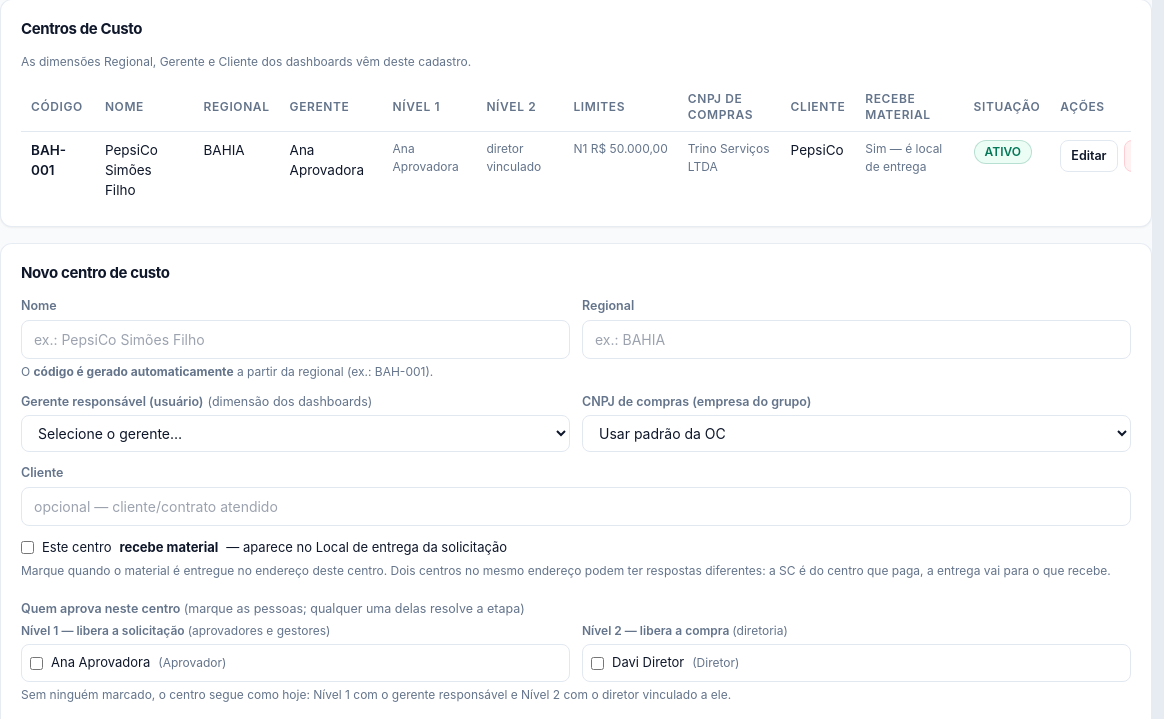
Test: <CentrosCusto /> › editar carrega a marca de quem recebe material
Expected: the table with test id "tabela-centros-custo" is shown, [21,82,1131,208]
Click the button "Editar" at (1089, 156), box [1060,140,1118,172]
(page scrolled)
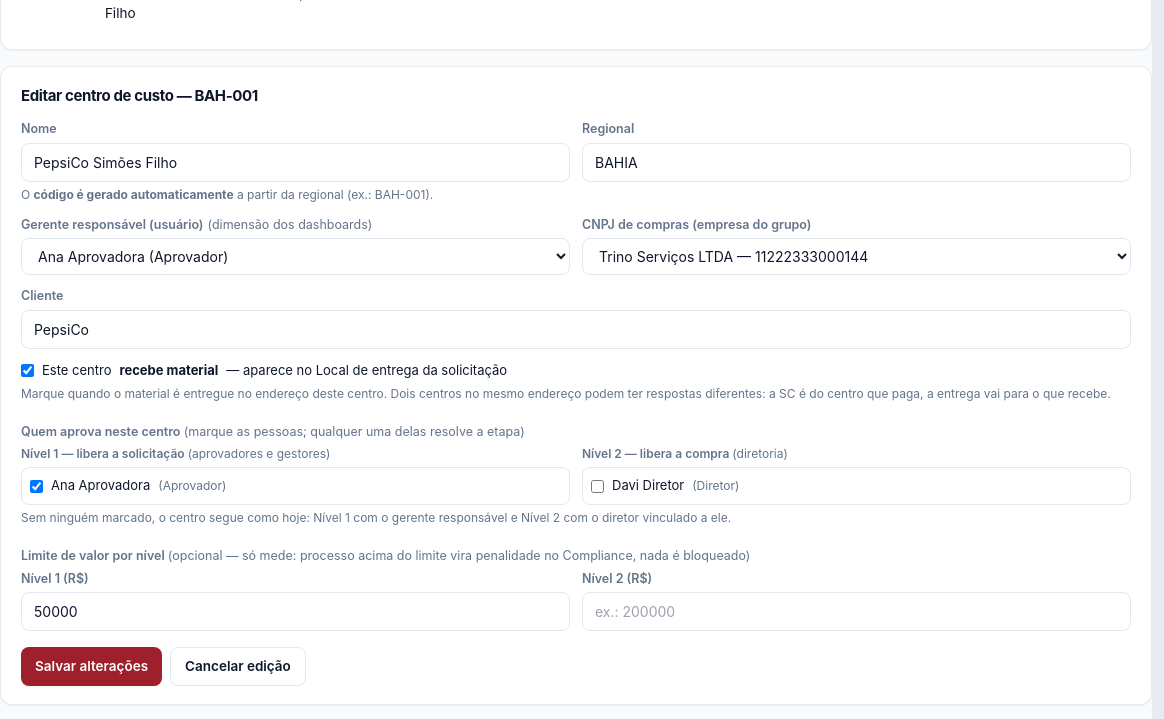
Result: the checkbox labelled "recebe material" is checked at [21,364,34,377]
